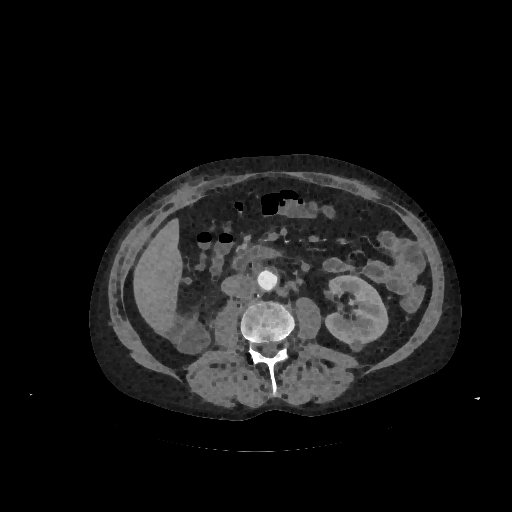Lesion: (344, 337, 364, 354)
